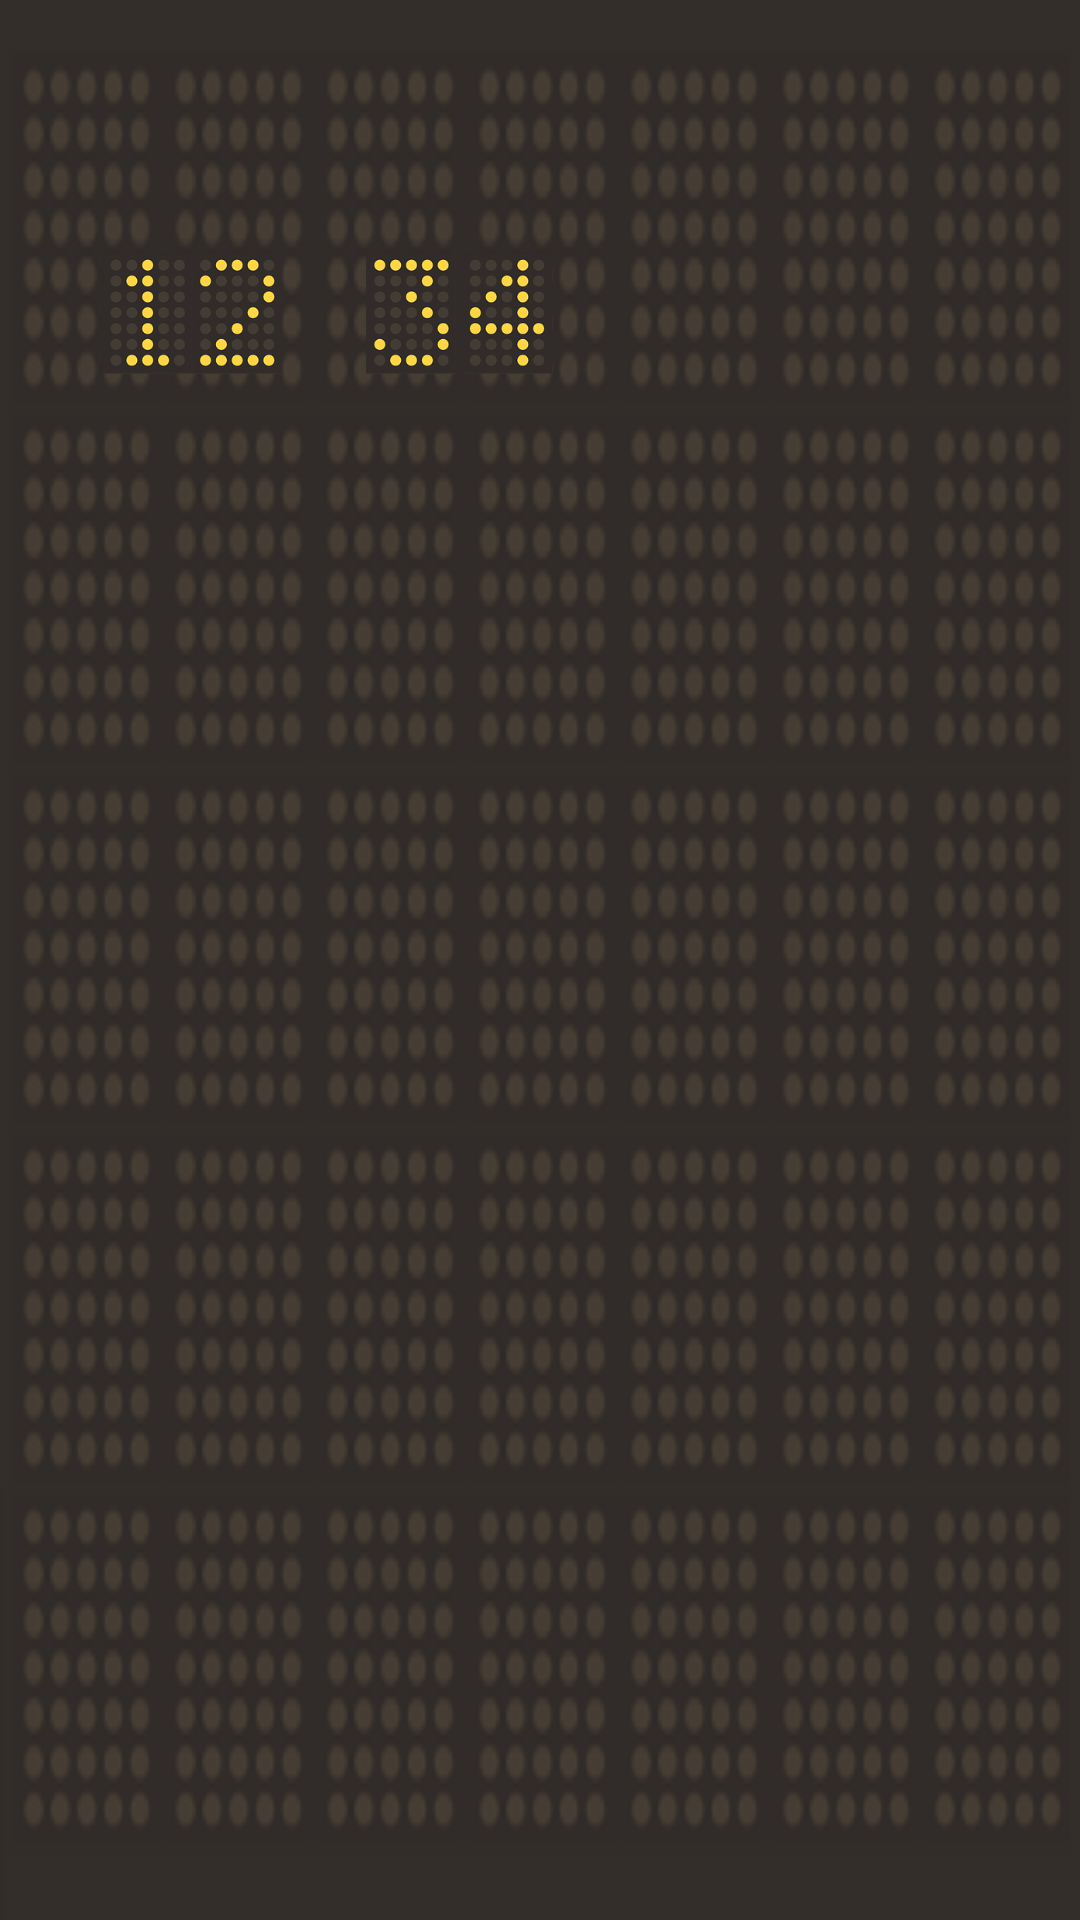

Named icons in this screenshot (1080x1920) and their centers, [x,y]:
digit: [147,312], [237,312], [412,312], [507,312]
